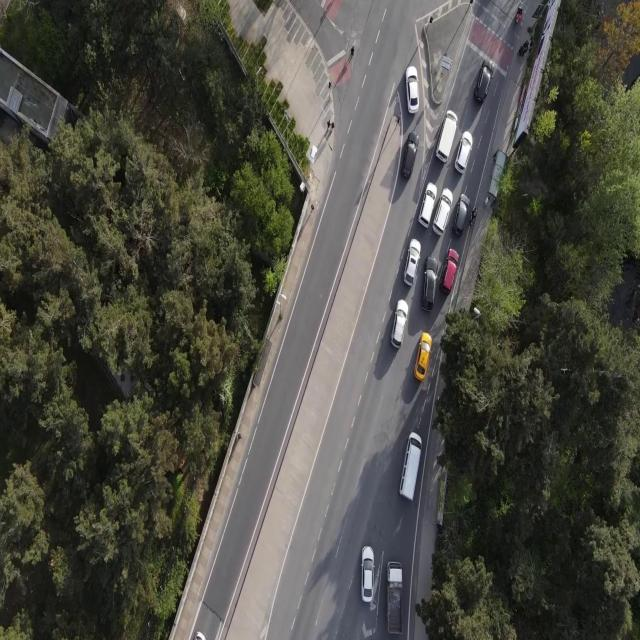p3rson: (518, 45, 524, 58), (484, 196, 490, 207), (522, 47, 528, 57), (350, 46, 354, 59), (331, 122, 335, 133), (327, 120, 331, 130), (523, 40, 529, 46)
